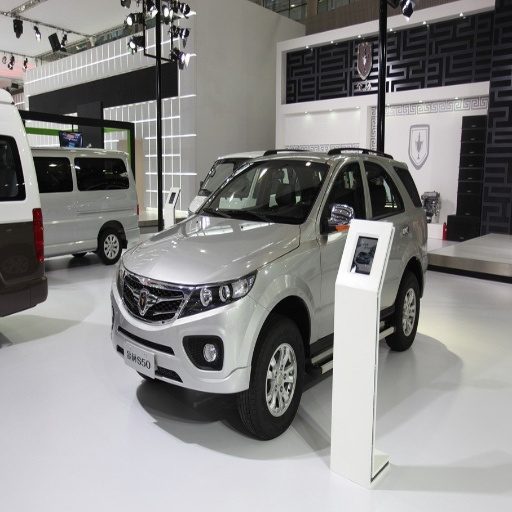front_bumper: (111, 271, 267, 394)
front_glass: (197, 160, 326, 223)
front_left_door: (315, 158, 382, 341)
